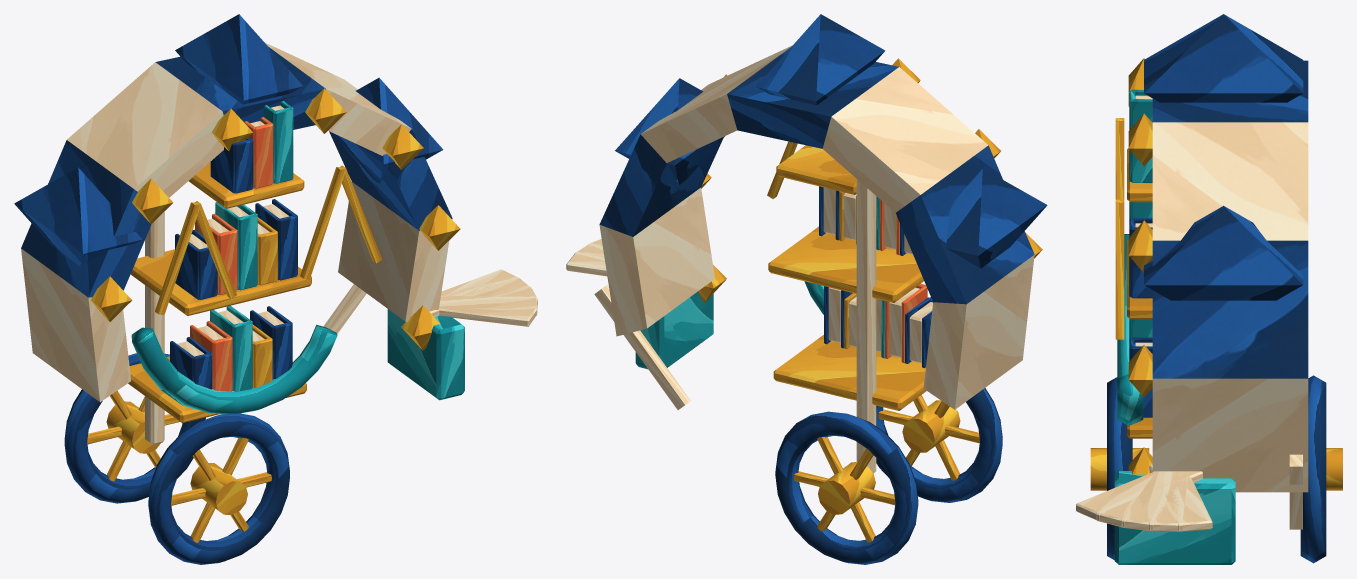
Rendered from 01_原神参考_赛璐璐.glb.
3 views of the same model, side by side, from view 1: azimuth 30°, elevation 25°; view 2: azimuth 150°, elevation 25°; view 3: azimuth 270°, elevation 25° (orthographic). The views are drawn at different scales.
Visible parts, largest first — view 1: snail_library; view 2: snail_library; view 3: snail_library.
Boxes of the visible parts, x1=… form: snail_library: x1=14, y1=14, x2=537, y2=564; snail_library: x1=566, y1=14, x2=1047, y2=564; snail_library: x1=1076, y1=14, x2=1342, y2=564.
Size of the model in its own units: 1.75 by 1.84 by 0.772.
2 materials, 2 textured.
